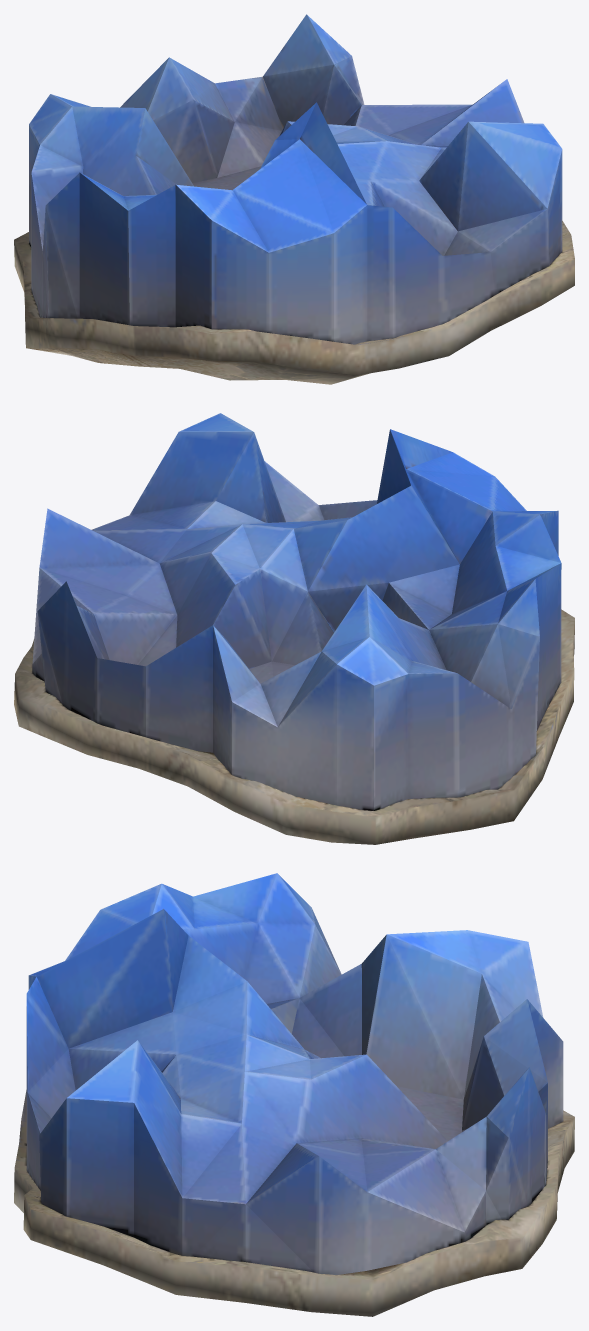
File: CelestiteGeode_Polished.glb
3 views of the same model, one above another, from view 1: azimuth 30°, elevation 25°; view 2: azimuth 150°, elevation 25°; view 3: azimuth 270°, elevation 25° (orthographic). The views are drawn at different scales.
Parts seen in each view (by area): view 1: CelestiteGeode_Polished; view 2: CelestiteGeode_Polished; view 3: CelestiteGeode_Polished.
Boxes of the visible parts, x1,y1,x2,y2 form: CelestiteGeode_Polished: (14, 14, 574, 384); CelestiteGeode_Polished: (14, 413, 574, 844); CelestiteGeode_Polished: (14, 873, 574, 1316).
Size of the model in its own units: 0.4821 by 0.2757 by 0.4277.
Materials: 1 (1 with a texture image).
